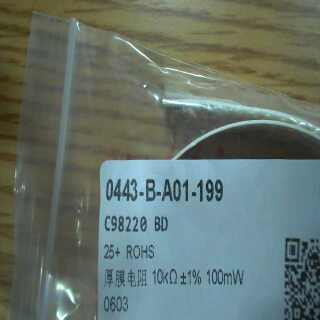10kR: (151, 263, 181, 291)
